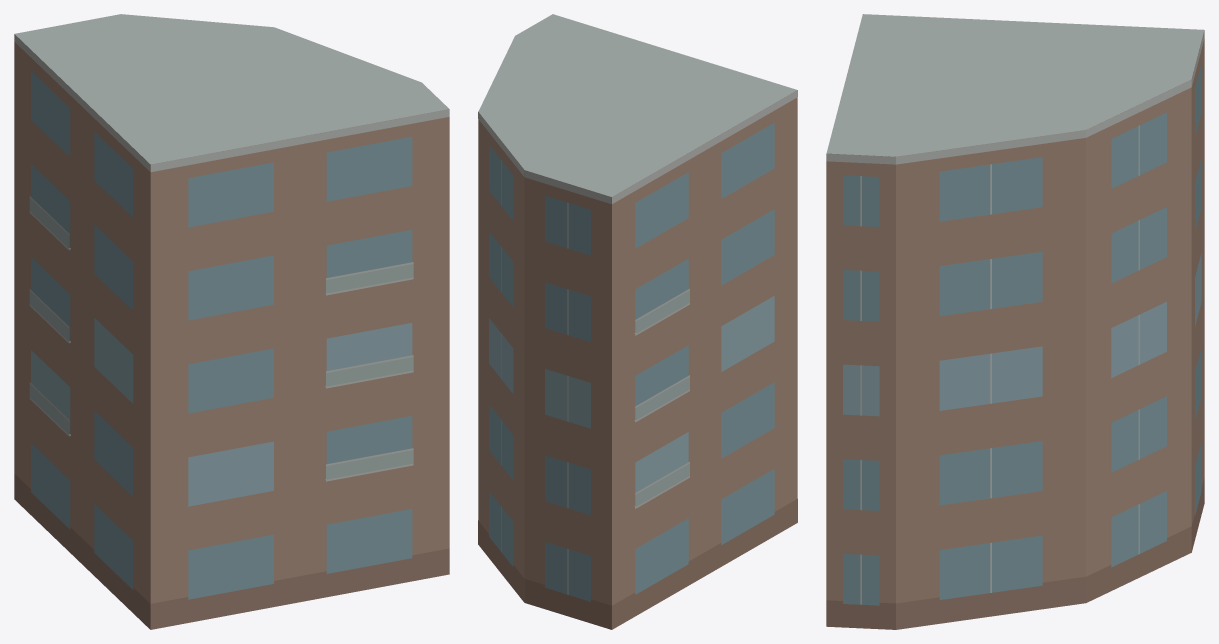
File: survey-upis-32753058.glb
The picture shows the model from 3 angles, left to right: view 1: azimuth 30°, elevation 25°; view 2: azimuth 150°, elevation 25°; view 3: azimuth 270°, elevation 25°; orthographic projection. The views are drawn at different scales.
Parts seen in each view (by area): view 1: survey-upis-32753058.tmp; view 2: survey-upis-32753058.tmp; view 3: survey-upis-32753058.tmp.
Part boxes in pixels (box(x1,y1,x2,y2)): survey-upis-32753058.tmp: box(14, 14, 449, 629); survey-upis-32753058.tmp: box(478, 14, 797, 629); survey-upis-32753058.tmp: box(826, 14, 1204, 629).
Bounding box in the file's own units: 9.52 × 14.7 × 10.66.
